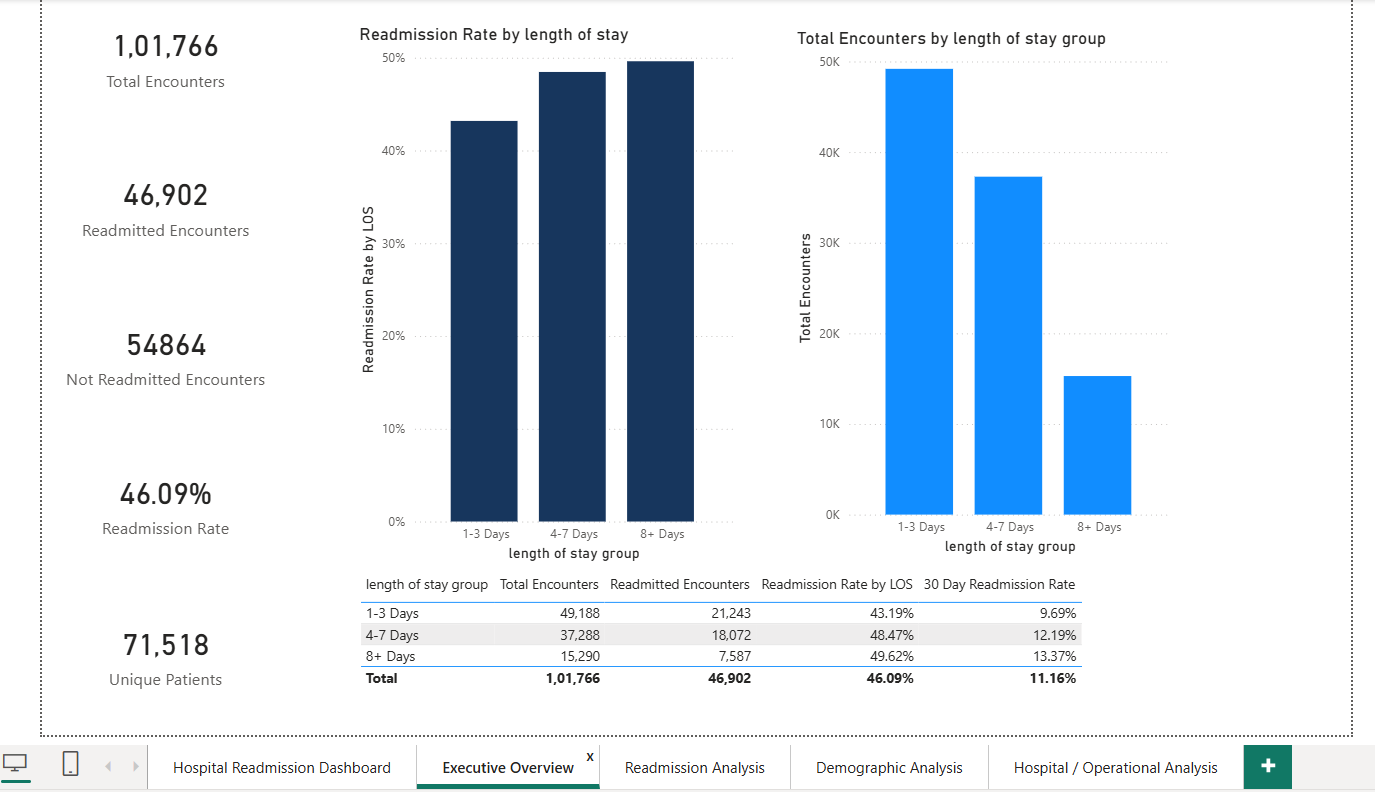

The dashboard page shown, as its layout file describes it:
{"tool":"powerbi","page":{"name":"Executive Overview","canvas":[1280,720],"ordinal":1},"visuals":[{"type":"card","fields":{"Values":["diabetic_data.Total Encounters"]},"box":[10.8,0,220,110],"z":0},{"type":"card","fields":{"Values":["diabetic_data.Unique Patients"]},"box":[10.8,585.1,220.3,109.5],"z":1000},{"type":"card","fields":{"Values":["diabetic_data.Readmitted Encounters"]},"box":[10.8,146,220.3,110.8],"z":2000},{"type":"card","fields":{"Values":["diabetic_data.Not Readmitted Encounters"]},"box":[10.8,292.8,220.3,109.5],"z":3000},{"type":"card","fields":{"Values":["diabetic_data.Readmission Rate"]},"box":[10.8,438.3,220.3,110.8],"z":4000},{"type":"clusteredColumnChart","fields":{"Category":["diabetic_data.length of stay group"],"Y":["diabetic_data.Total Encounters"]},"box":[733.8,28.4,375.7,520.3],"z":5000},{"type":"tableEx","fields":{"Values":["diabetic_data.length of stay group","diabetic_data.Total Encounters","diabetic_data.Readmitted Encounters","diabetic_data.Readmission Rate by LOS","diabetic_data.30 Day Readmission Rate"]},"box":[305.7,556.4,788.7,163.9],"z":6000},{"type":"clusteredColumnChart","title":"Readmission Rate by length of stay","fields":{"Category":["diabetic_data.length of stay group"],"Y":["diabetic_data.Readmission Rate by LOS"]},"box":[305.7,24.5,375.4,530.7],"z":7000}]}

Visuals, with their boxes on the page's 1280x720 design canvas (x1, y1, x2, y2). These are canvas units, not pixel positions in the 1375x792 screenshot, which may show the page scaled, cropped or inside an application window:
card - diabetic_data.Total Encounters: bbox=[11, 0, 231, 110]
card - diabetic_data.Unique Patients: bbox=[11, 585, 231, 695]
card - diabetic_data.Readmitted Encounters: bbox=[11, 146, 231, 257]
card - diabetic_data.Not Readmitted Encounters: bbox=[11, 293, 231, 402]
card - diabetic_data.Readmission Rate: bbox=[11, 438, 231, 549]
clusteredColumnChart - diabetic_data.length of stay group x diabetic_data.Total Encounters: bbox=[734, 28, 1110, 549]
tableEx - diabetic_data.length of stay group x diabetic_data.Total Encounters: bbox=[306, 556, 1094, 720]
"Readmission Rate by length of stay" clusteredColumnChart: bbox=[306, 24, 681, 555]
